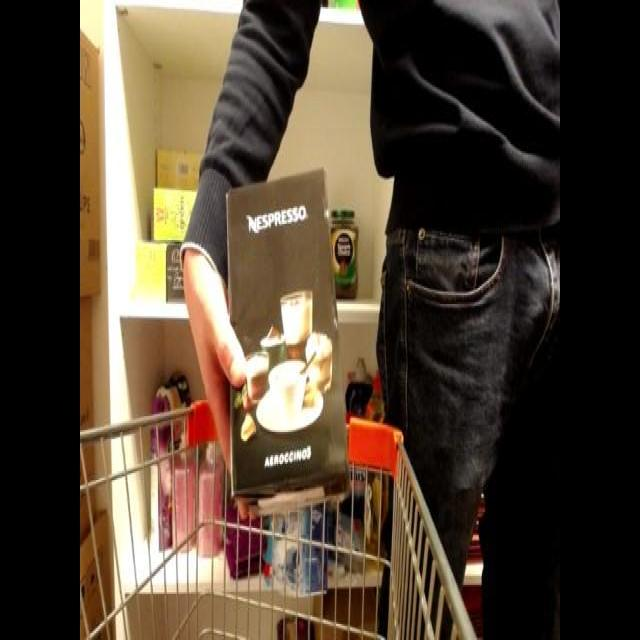Nespresso: (216, 146, 365, 526)
